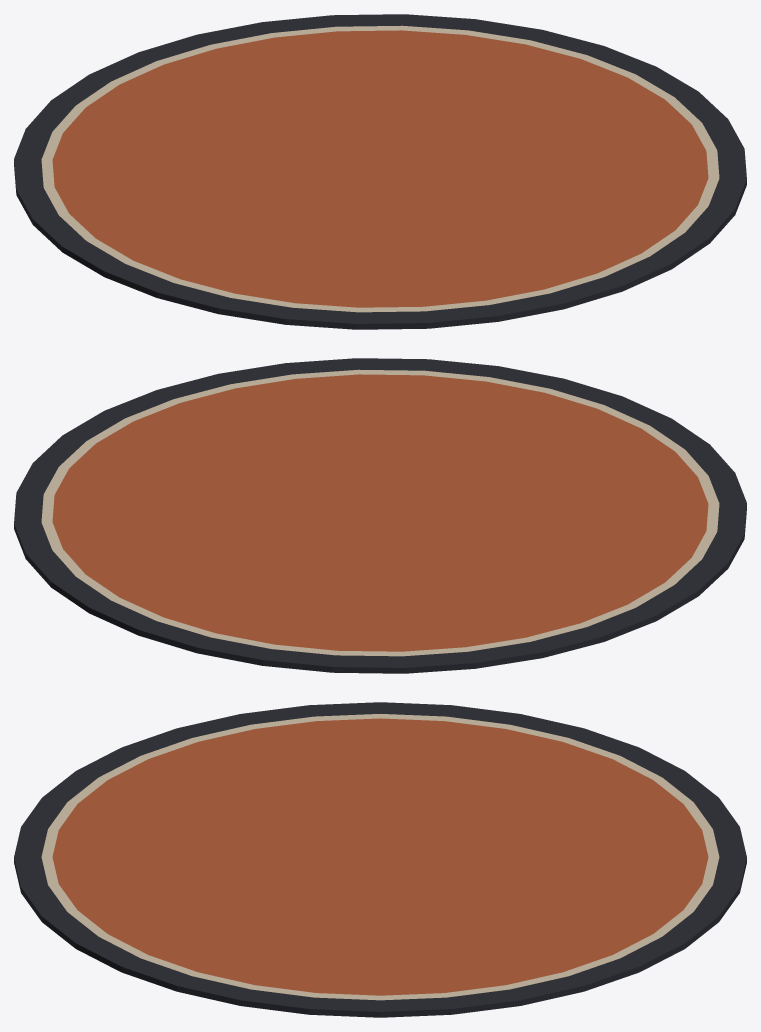
File: FN_Rug_Round.glb
3 views of the same model, one above another, from view 1: azimuth 30°, elevation 25°; view 2: azimuth 150°, elevation 25°; view 3: azimuth 270°, elevation 25° (orthographic).
Visible parts, largest first — view 1: FN_Rug_Round; view 2: FN_Rug_Round; view 3: FN_Rug_Round.
Boxes of the visible parts, x1,y1,x2,y2 form: FN_Rug_Round: (14,14,746,329); FN_Rug_Round: (14,358,746,673); FN_Rug_Round: (14,702,746,1017).
Bounding box in the file's own units: 1.6 × 0.014 × 1.6.
Materials: 1 (1 with a texture image).
